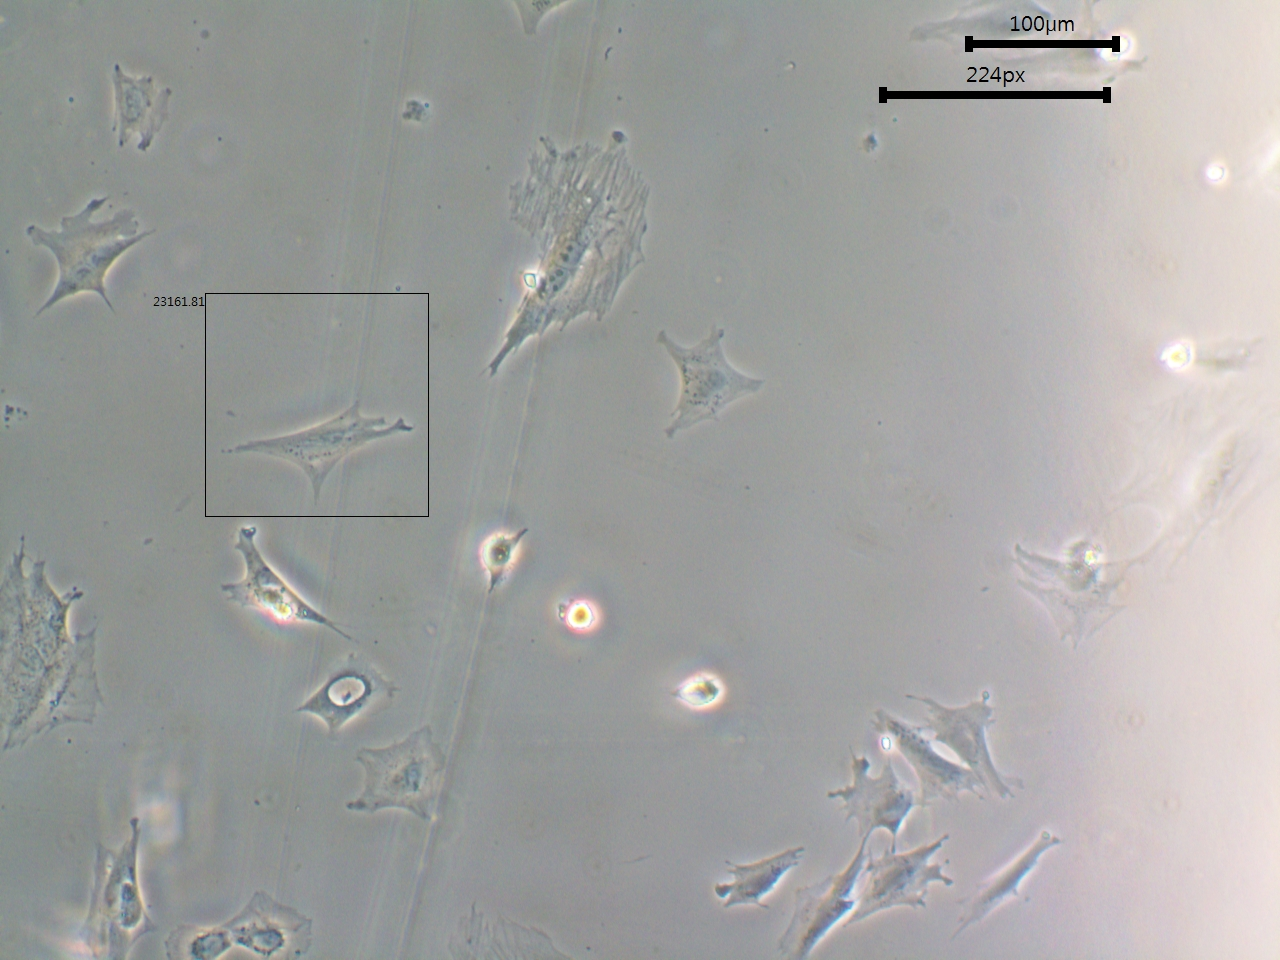dividing: (480, 121, 651, 380), (10, 181, 150, 346), (161, 885, 318, 960)
medium-polygonal: (228, 408, 414, 513), (196, 527, 364, 639)
small-polygonal: (645, 308, 789, 448), (922, 690, 1041, 801), (958, 819, 1068, 919), (288, 658, 406, 732), (830, 755, 918, 843), (708, 839, 805, 912), (103, 57, 173, 156)
small-round: (549, 589, 601, 640)
small-spread: (341, 729, 456, 829)
